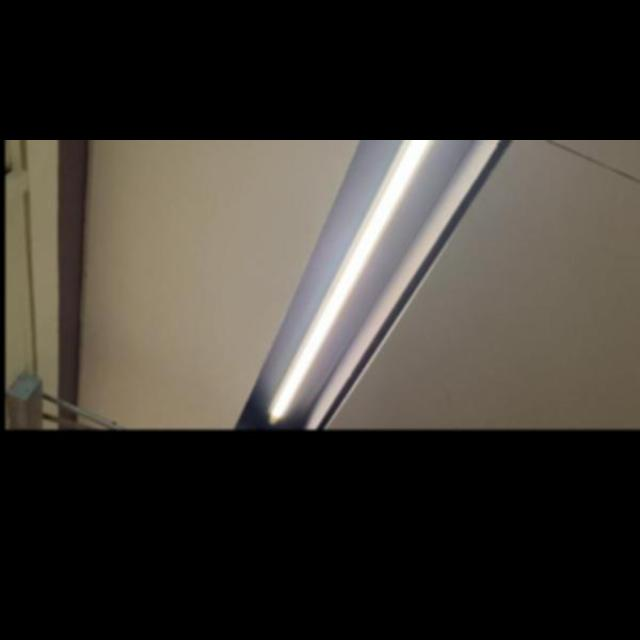Straight-Tube-Fluorescent-Lamp: (258, 140, 474, 430)
